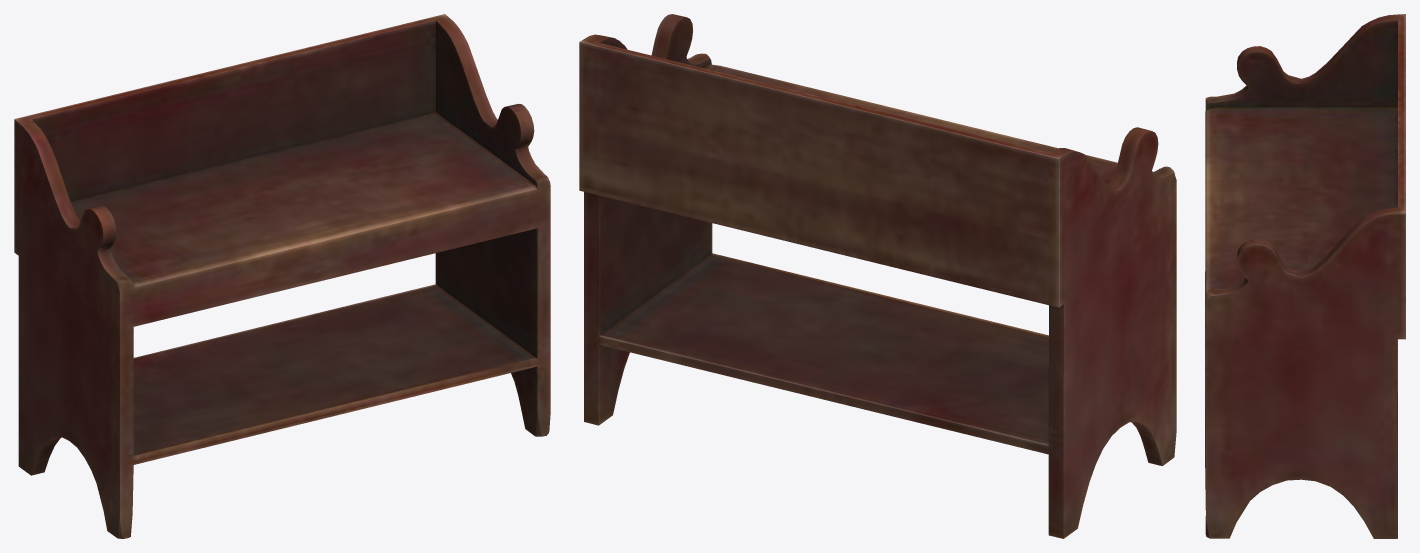
Rendered from painted_wooden_bench.glb.
3 renders of one model, left to right at view 1: azimuth 30°, elevation 25°; view 2: azimuth 150°, elevation 25°; view 3: azimuth 270°, elevation 25°, orthographic. The views are drawn at different scales.
Parts seen in each view (by area): view 1: painted_wooden_bench; view 2: painted_wooden_bench; view 3: painted_wooden_bench.
Part boxes in pixels (x1,y1,x2,y2): painted_wooden_bench: (14,14,550,538); painted_wooden_bench: (579,14,1176,538); painted_wooden_bench: (1205,14,1405,538).
Bounding box in the file's own units: 1.16 × 0.8893 × 0.4965.
1 material, 1 textured.
